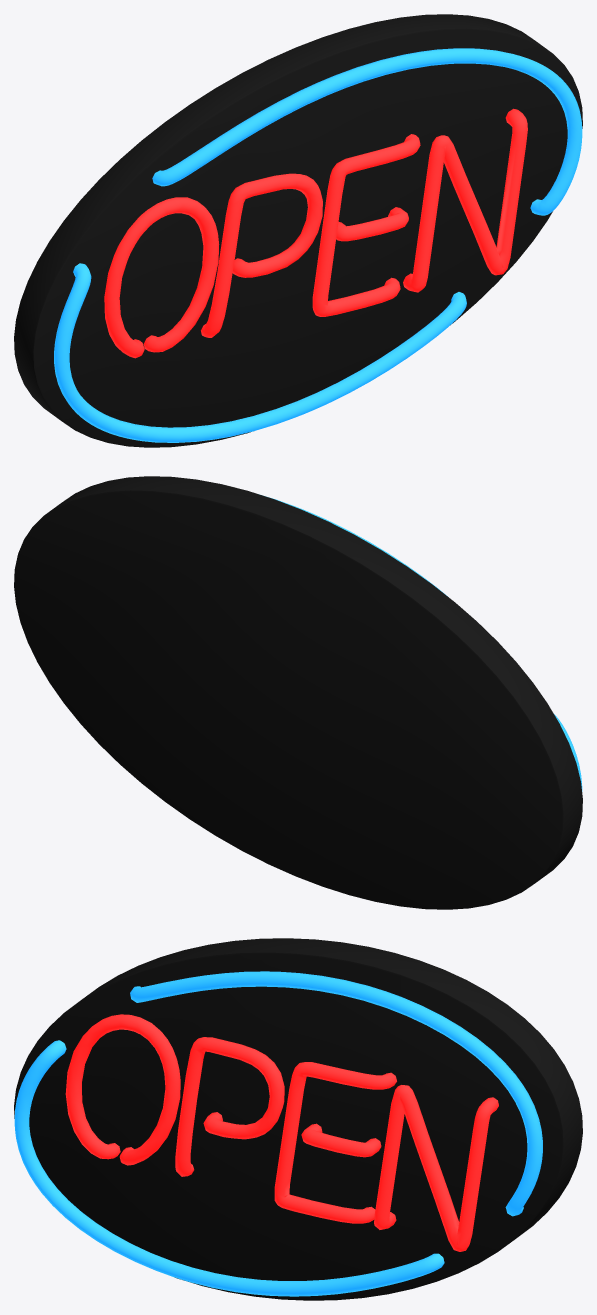
File: open sign.fbx
3 views of the same model, one above another, from view 1: azimuth 30°, elevation 25°; view 2: azimuth 150°, elevation 25°; view 3: azimuth 330°, elevation 25° (orthographic).
Parts seen in each view (by area): view 1: neon open sign back_LOD0, neon open text_LOD0, oval neon boundary_LOD0; view 2: neon open sign back_LOD0; view 3: neon open sign back_LOD0, neon open text_LOD0, oval neon boundary_LOD0.
Boxes of the visible parts, left/top/right/bottom form: neon open sign back_LOD0: left=14, top=14, right=582, bottom=447; neon open text_LOD0: left=104, top=108, right=527, bottom=358; oval neon boundary_LOD0: left=54, top=48, right=582, bottom=442; neon open sign back_LOD0: left=14, top=476, right=582, bottom=909; neon open sign back_LOD0: left=14, top=938, right=582, bottom=1300; neon open text_LOD0: left=65, top=1014, right=498, bottom=1251; oval neon boundary_LOD0: left=14, top=971, right=542, bottom=1296.
Size of what is drawn, in the model's own units: 64.48 by 40.54 by 6.86.
